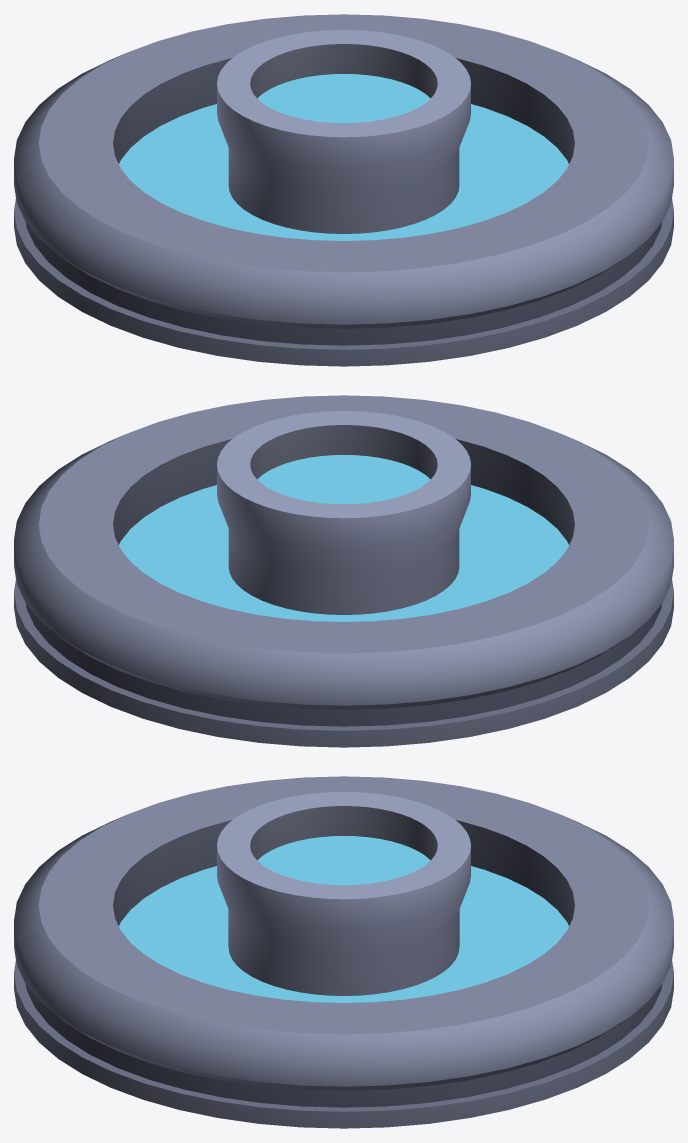
Rendered from T_fountain-round-detail.glb.
3 renders of one model, top to bottom at view 1: azimuth 30°, elevation 25°; view 2: azimuth 150°, elevation 25°; view 3: azimuth 270°, elevation 25°, orthographic.
Parts seen in each view (by area): view 1: fountain-round-detail, (%ignore); view 2: fountain-round-detail, (%ignore); view 3: fountain-round-detail, (%ignore).
Part boxes in pixels (x1,y1,x2,y2): fountain-round-detail: [14, 14, 673, 366]; (%ignore): [119, 74, 568, 240]; fountain-round-detail: [14, 395, 673, 747]; (%ignore): [119, 455, 568, 621]; fountain-round-detail: [14, 776, 673, 1128]; (%ignore): [119, 836, 568, 1002].
Bounding box in the file's own units: 2 × 0.48 × 2.
